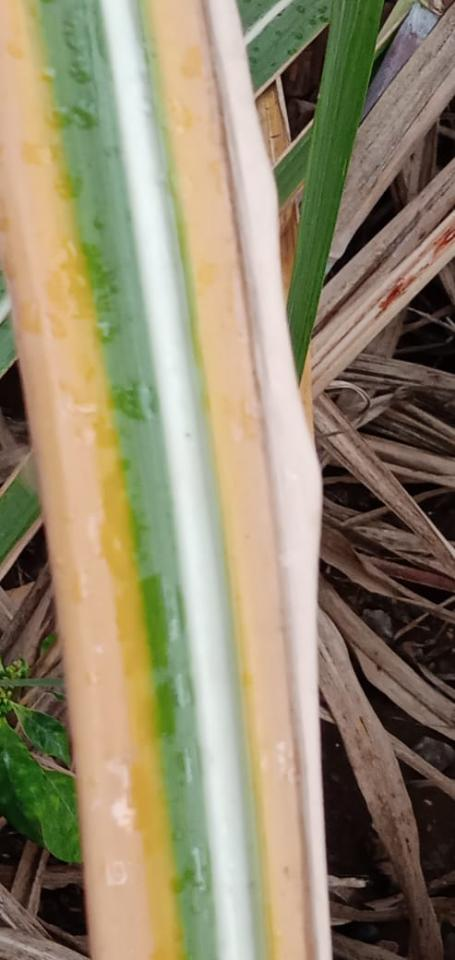Yellow: (1, 0, 184, 959), (153, 0, 332, 959)
